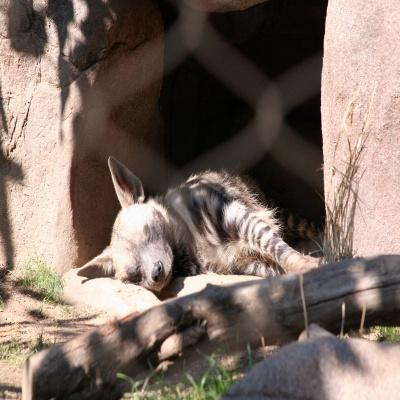hyenas: (80, 142, 343, 315)
